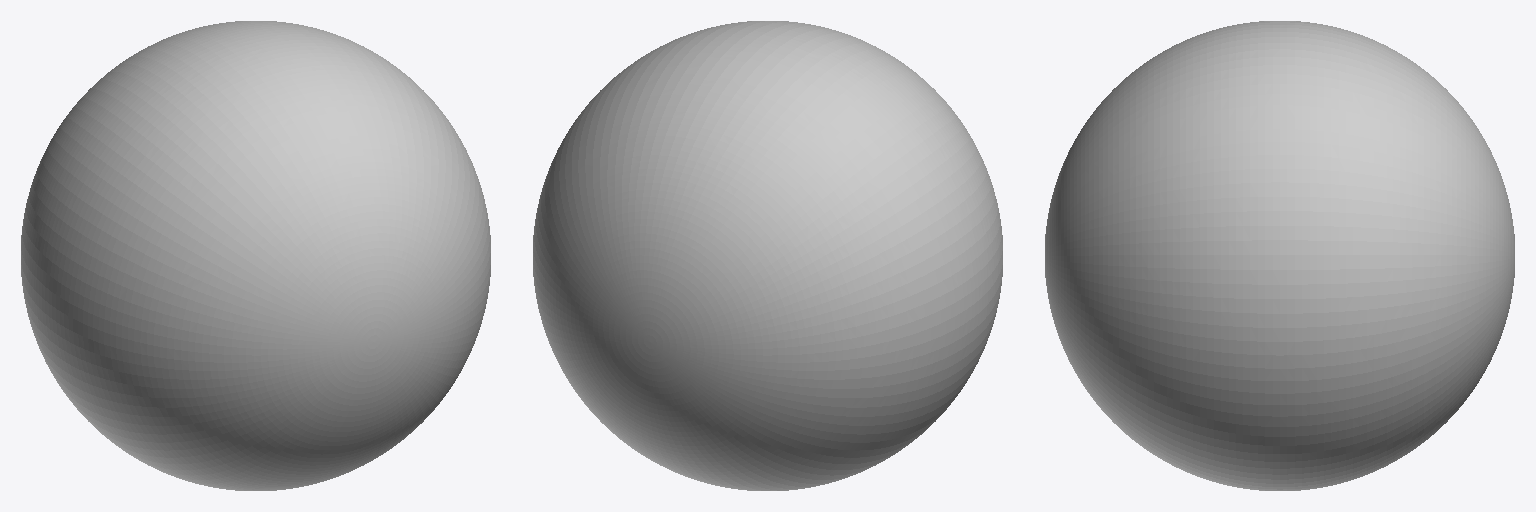
File: Mercury.obj
3 renders of one model, left to right at view 1: azimuth 30°, elevation 25°; view 2: azimuth 150°, elevation 25°; view 3: azimuth 270°, elevation 25°, orthographic.
Visible parts, largest first — view 1: node_id36; view 2: node_id36; view 3: node_id36.
Boxes of the visible parts, box(x1,y1,x2,y2) form: node_id36: box(21, 21, 490, 490); node_id36: box(533, 21, 1002, 490); node_id36: box(1045, 21, 1514, 490).
Size of the model in its own units: 0.0148 by 0.0148 by 0.0148.